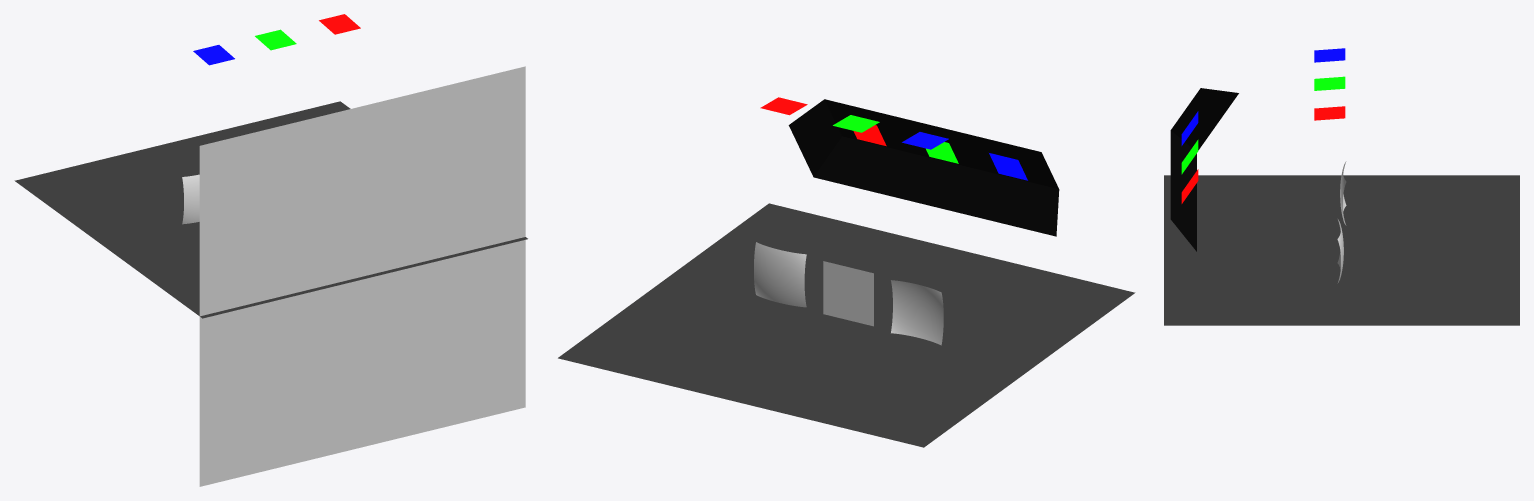
Rendered from mirror thing.gltf.
3 renders of one model, left to right at view 1: azimuth 30°, elevation 25°; view 2: azimuth 150°, elevation 25°; view 3: azimuth 270°, elevation 25°, orthographic. The views are drawn at different scales.
Visible parts, largest first — view 1: Plane.001, Plane, Plane.003; view 2: Plane, Plane.008, Plane.003, Plane.002, Plane.004; view 3: Plane, Plane.008, Plane.011, Plane.010, Plane.009.
Part boxes in pixels (<box>): Plane.001: <box>199,66,525,486</box>; Plane: <box>14,101,527,318</box>; Plane.003: <box>182,174,199,224</box>; Plane: <box>558,203,1135,447</box>; Plane.008: <box>788,99,1059,236</box>; Plane.003: <box>891,280,943,345</box>; Plane.002: <box>754,242,806,307</box>; Plane.004: <box>823,261,873,326</box>; Plane: <box>1164,175,1519,325</box>; Plane.008: <box>1170,88,1238,251</box>; Plane.011: <box>1314,48,1345,62</box>; Plane.010: <box>1314,106,1345,120</box>; Plane.009: <box>1314,76,1345,90</box>.
Bounding box in the file's own units: 14.43 × 14.68 × 14.43.
